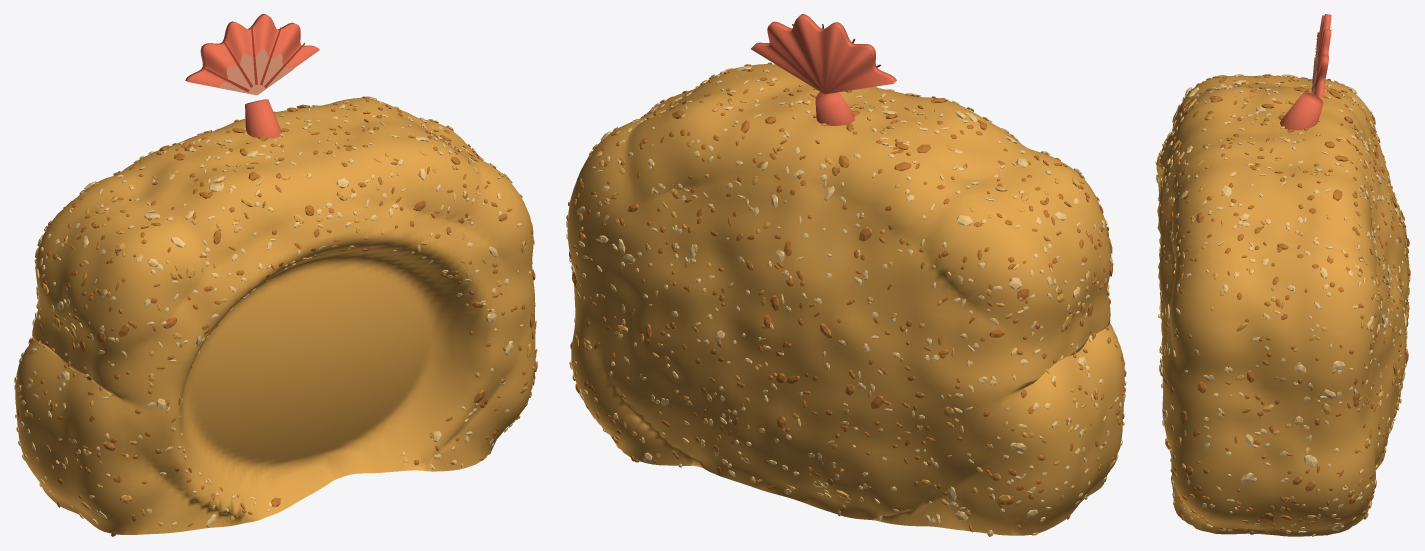
The model's file is ebifurai.glb.
The picture shows the model from 3 angles, left to right: view 1: azimuth 30°, elevation 25°; view 2: azimuth 150°, elevation 25°; view 3: azimuth 270°, elevation 25°; orthographic projection. The views are drawn at different scales.
Parts seen in each view (by area): view 1: EbiSuit, EbiPanko, EbiTailFan, EbiTailFanLight, EbiTailStem, EbiTailRays; view 2: EbiSuit, EbiPanko, EbiTailFan, EbiTailStem; view 3: EbiSuit, EbiPanko, EbiTailStem, EbiTailFan.
Part boxes in pixels (<box>): EbiSuit: <box>15,98,535,534</box>; EbiPanko: <box>14,96,537,536</box>; EbiTailFan: <box>185,14,319,87</box>; EbiTailFanLight: <box>218,49,293,95</box>; EbiTailStem: <box>245,99,281,138</box>; EbiTailRays: <box>203,26,305,92</box>; EbiSuit: <box>567,64,1124,535</box>; EbiPanko: <box>566,62,1126,536</box>; EbiTailFan: <box>751,14,896,94</box>; EbiTailStem: <box>815,92,854,125</box>; EbiSuit: <box>1156,75,1409,536</box>; EbiPanko: <box>1155,74,1410,536</box>; EbiTailStem: <box>1280,92,1323,130</box>; EbiTailFan: <box>1314,14,1331,97</box>.
Bounding box in the file's own units: 2.61 × 2.32 × 1.26.
